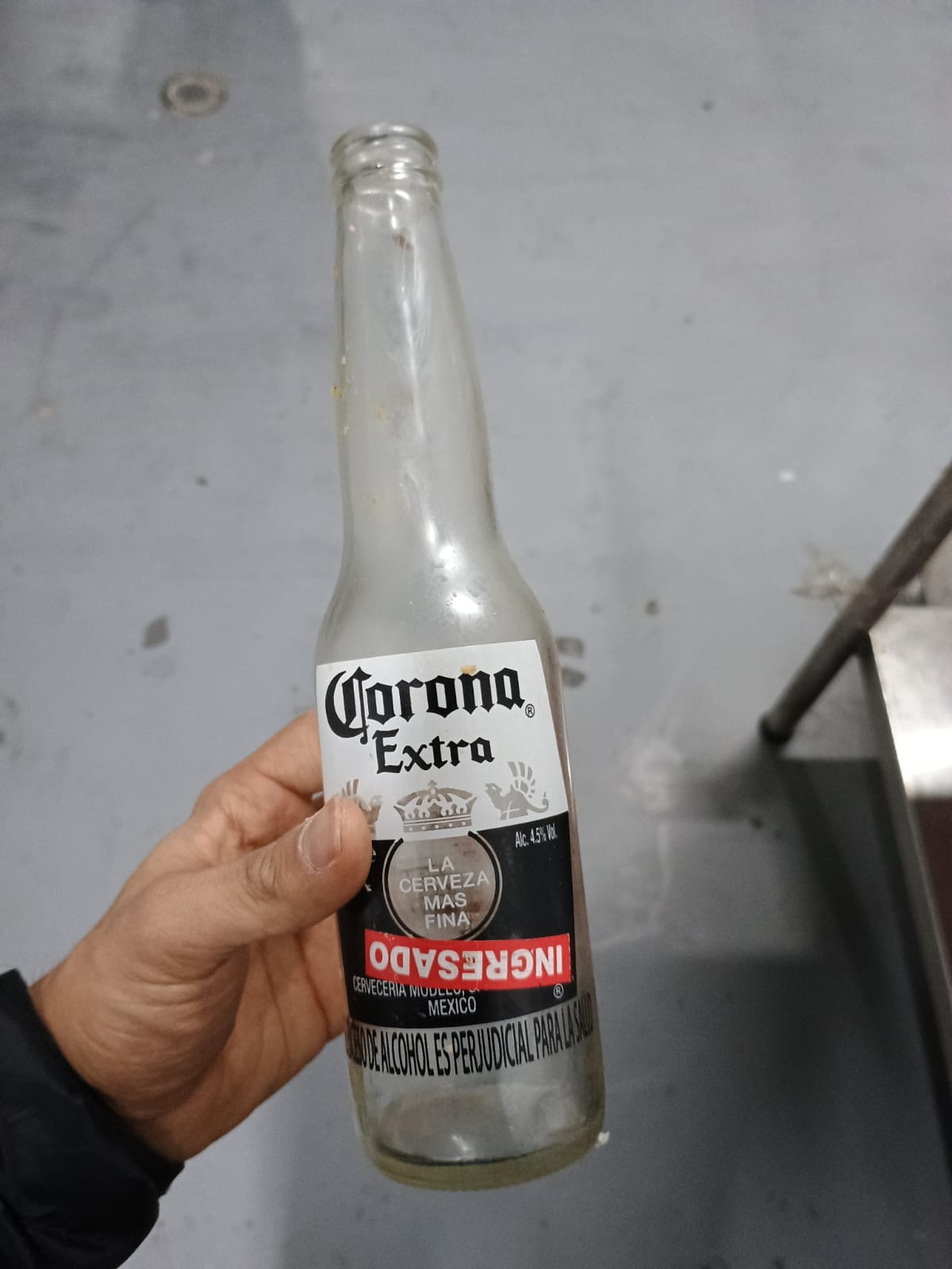Vidrio: (312, 122, 602, 1188)
